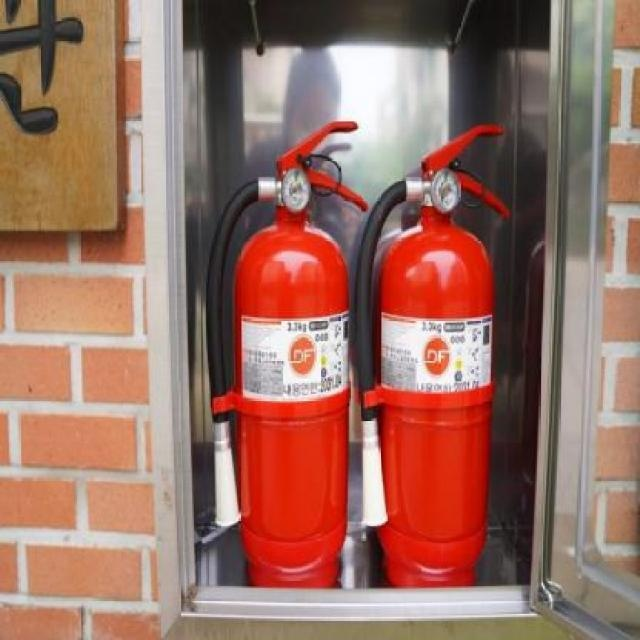fire extinguisher: (206, 120, 368, 589), (355, 123, 510, 588)
